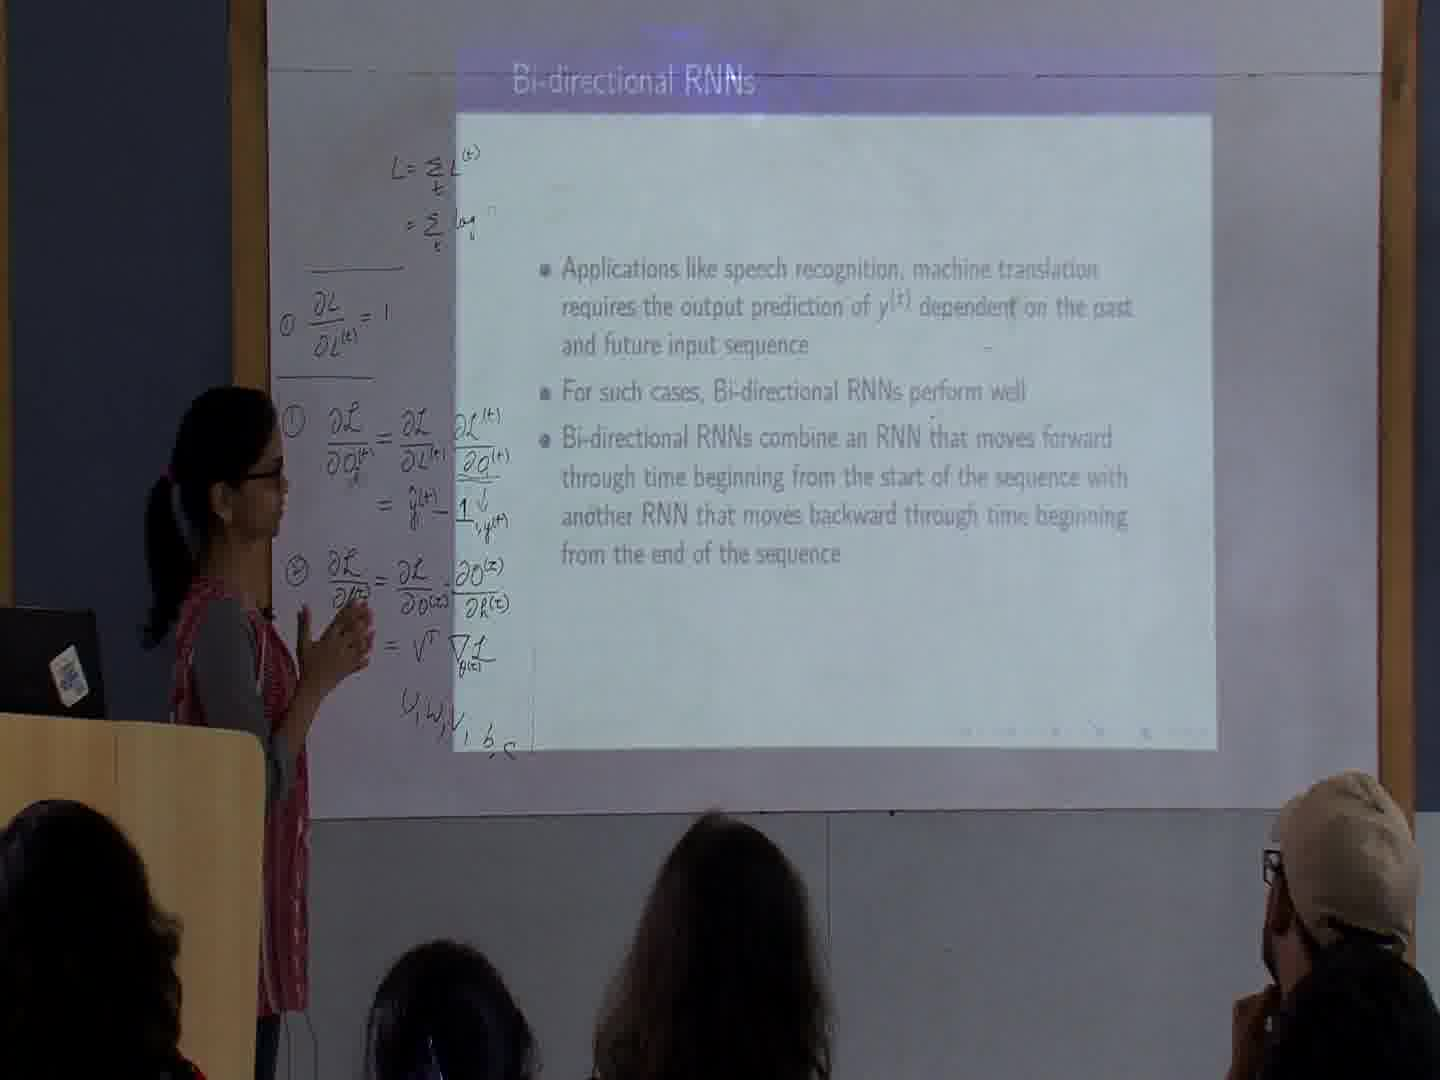slide: (454, 49, 1214, 751)
